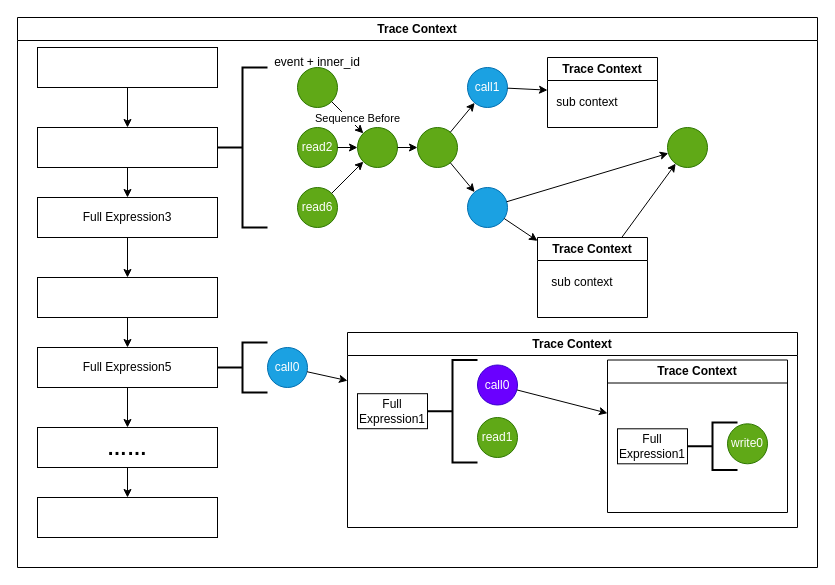
The diagram is 835 pixels wide and 585 high, and some of its shapes have lost their labels. The box of each missing label's shape, as (x1, y1, x2, y2) in pixels:
call7: (466, 186, 508, 228)
del4: (416, 126, 458, 168)
Full Expression1 (full_expr_exec_id): (36, 46, 218, 88)
Full Expression2: (36, 126, 218, 168)
Full Expression4: (36, 276, 218, 318)
read0: (296, 66, 338, 108)
read5: (666, 126, 708, 168)
return/halt: (36, 496, 218, 538)
write3: (356, 126, 398, 168)
